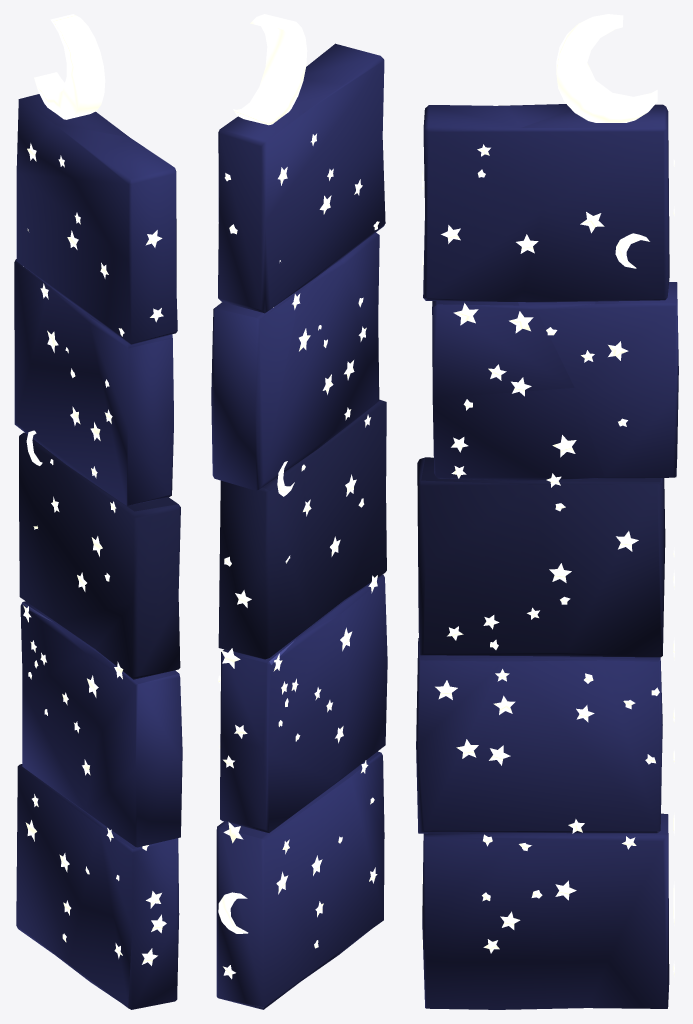
The model's file is den_moon_bookend_lod1.glb.
The picture shows the model from 3 angles, left to right: view 1: azimuth 30°, elevation 25°; view 2: azimuth 150°, elevation 25°; view 3: azimuth 270°, elevation 25°; orthographic projection. The views are drawn at different scales.
Visible parts, largest first — view 1: den_moon_bookend.001; view 2: den_moon_bookend.001; view 3: den_moon_bookend.001.
Part boxes in pixels (x1,y1,x2,y2): den_moon_bookend.001: (14,14,182,1009); den_moon_bookend.001: (211,14,387,1009); den_moon_bookend.001: (416,14,678,1009).
Bounding box in the file's own units: 2.55 × 43.14 × 10.5.
